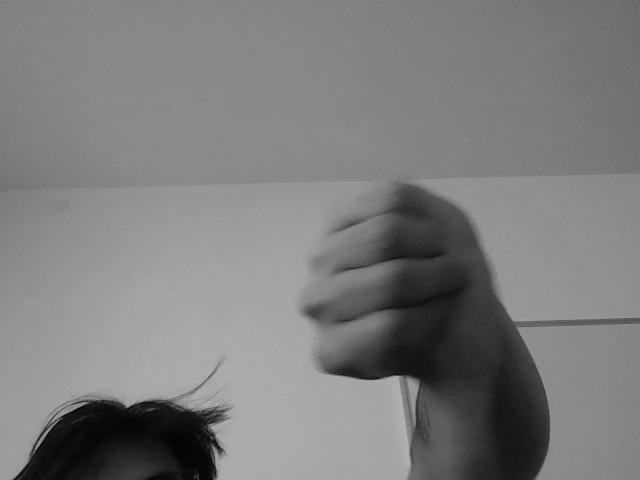bad: (334, 143, 578, 480)
